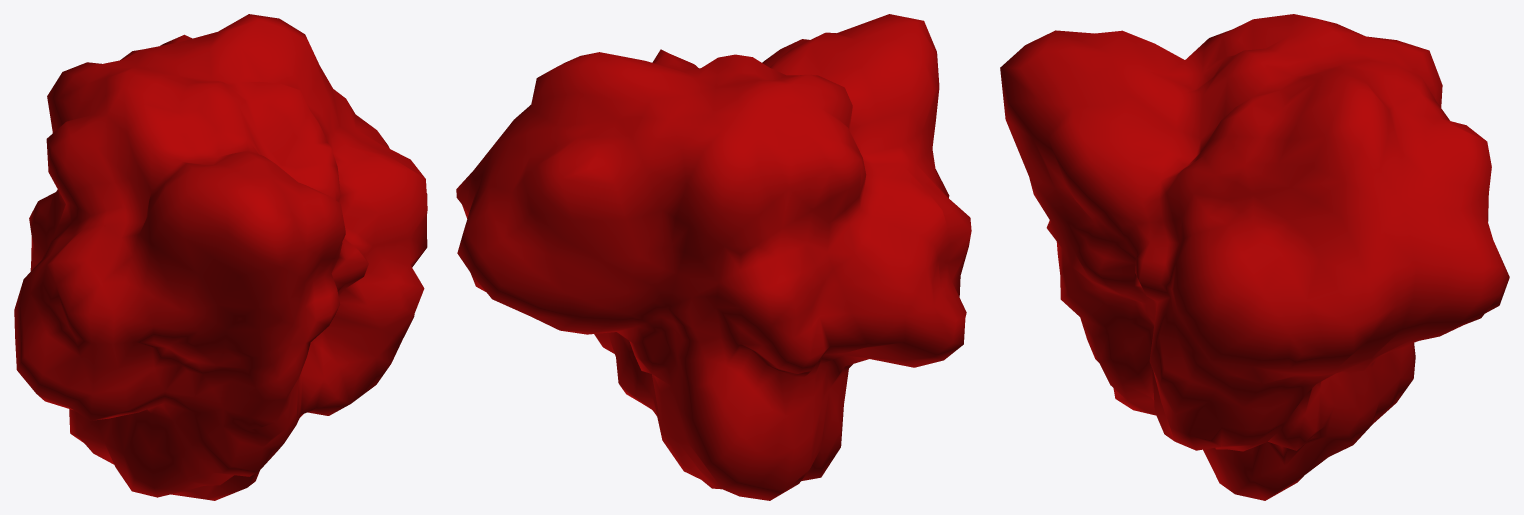
File: Blob_Body.fbx
3 views of the same model, side by side, from view 1: azimuth 30°, elevation 25°; view 2: azimuth 150°, elevation 25°; view 3: azimuth 270°, elevation 25° (orthographic). The views are drawn at different scales.
Visible parts, largest first — view 1: pPlatonic1; view 2: pPlatonic1; view 3: pPlatonic1.
Part boxes in pixels (x1,y1,x2,y2): pPlatonic1: (14,14,427,500); pPlatonic1: (456,14,971,500); pPlatonic1: (1000,14,1509,500).
Bounding box in the file's own units: 4.01 × 3.87 × 3.93.
